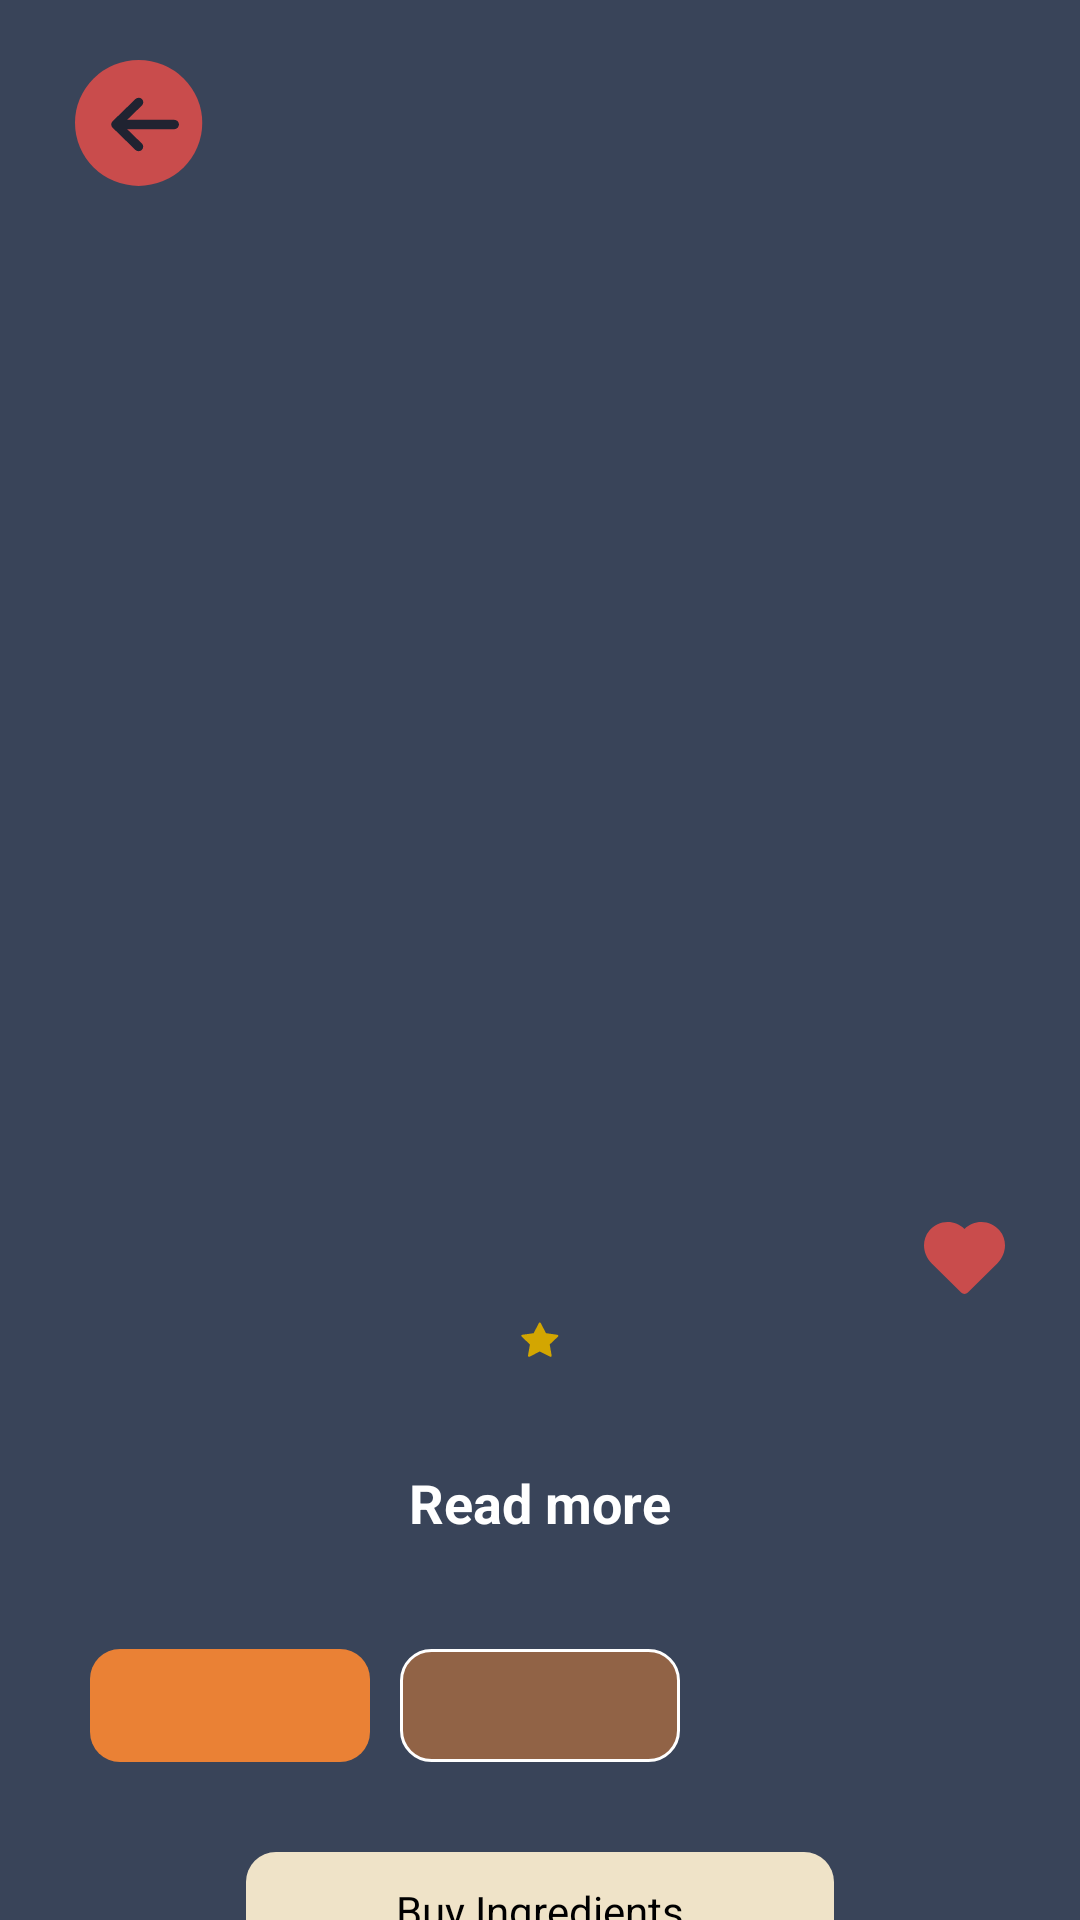

Icon bounding boxes for this 1080w x 1920h phone screenshot, format (x1, y1, x2, y2):
circle arrow left: (75, 60, 203, 186)
heart: (924, 1222, 1005, 1294)
